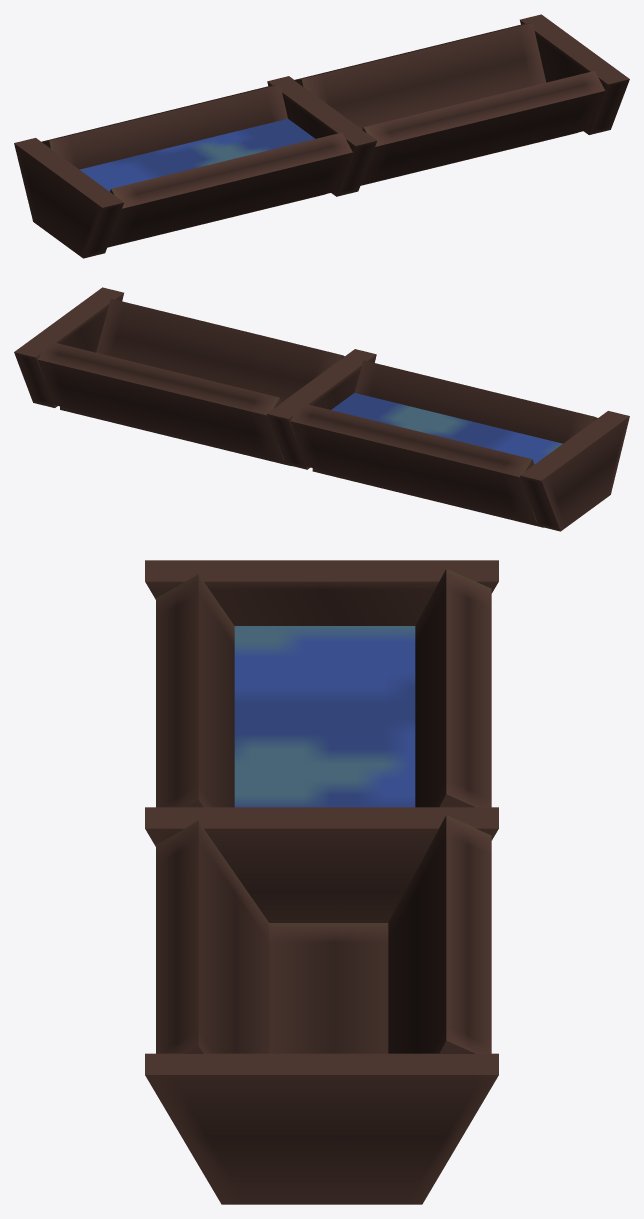
File: water_bowl_v041.fbx
3 views of the same model, one above another, from view 1: azimuth 30°, elevation 25°; view 2: azimuth 150°, elevation 25°; view 3: azimuth 270°, elevation 25° (orthographic). The views are drawn at different scales.
Parts seen in each view (by area): view 1: water_bowl_v041; view 2: water_bowl_v041; view 3: water_bowl_v041.
Part boxes in pixels (x1,y1,x2,y2): water_bowl_v041: (14,14,629,258); water_bowl_v041: (14,287,629,531); water_bowl_v041: (145,560,498,1204).
Size of the model in its own units: 505 by 70.19 by 147.
